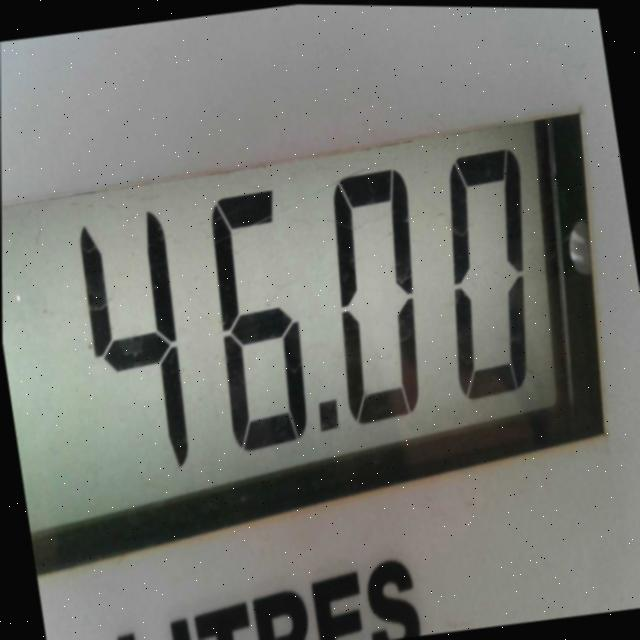.: (300, 377, 362, 461)
0: (305, 161, 444, 441), (420, 137, 562, 404)
4: (45, 191, 222, 493)
6: (173, 163, 319, 458)
